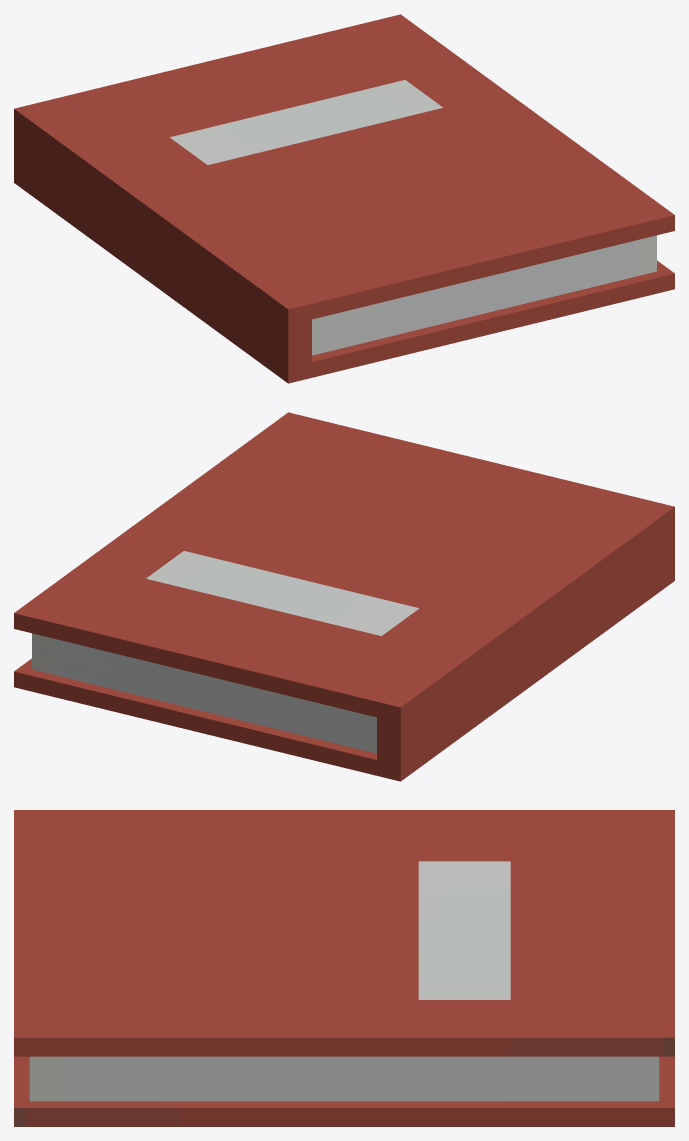
File: book.gltf
The picture shows the model from 3 angles, top to bottom: view 1: azimuth 30°, elevation 25°; view 2: azimuth 150°, elevation 25°; view 3: azimuth 270°, elevation 25°; orthographic projection. The views are drawn at different scales.
Parts seen in each view (by area): view 1: node-0; view 2: node-0; view 3: node-0.
Boxes of the visible parts, x1,y1,x2,y2 form: node-0: (14, 14, 674, 383); node-0: (14, 412, 674, 781); node-0: (14, 810, 674, 1126).
Size of the model in its own units: 0.718 by 0.1316 by 0.8821.
